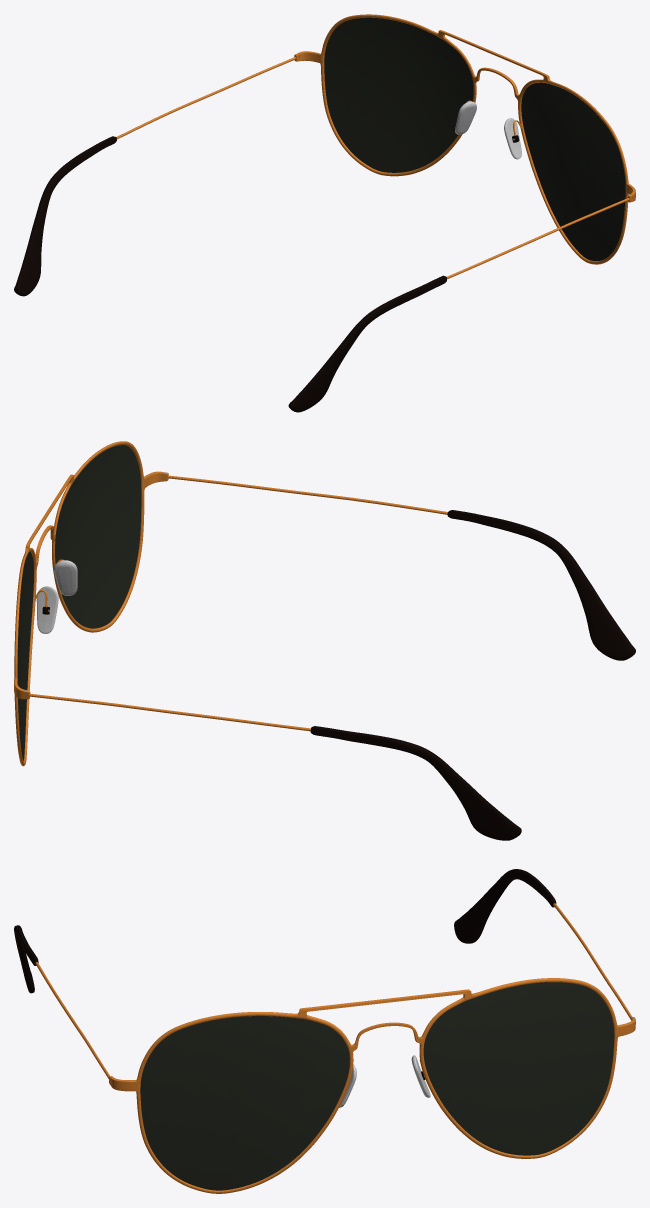
File: oculos3.obj
3 views of the same model, one above another, from view 1: azimuth 30°, elevation 25°; view 2: azimuth 150°, elevation 25°; view 3: azimuth 270°, elevation 25° (orthographic). The views are drawn at different scales.
Visible parts, largest first — view 1: Aviators; view 2: Aviators; view 3: Aviators.
Boxes of the visible parts, bbox=[...] form: Aviators: bbox=[14, 14, 635, 412]; Aviators: bbox=[14, 441, 635, 840]; Aviators: bbox=[14, 869, 635, 1193].
Size of the model in its own units: 1.65 by 0.5353 by 1.63.
